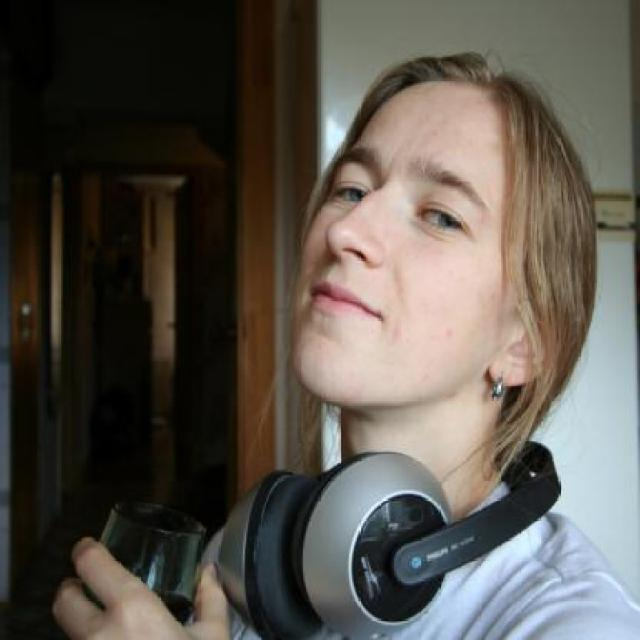earphone: (206, 417, 576, 640)
